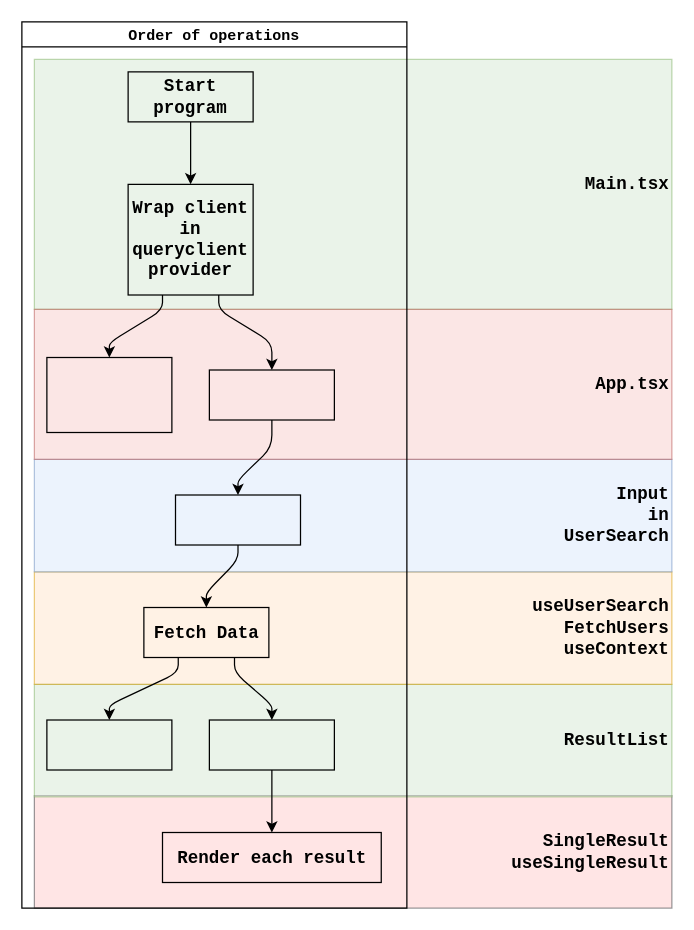
This 694x930 diagram has some shape labels left out. The shapes that lost their labels are listed below. From the top down, each one's centre as x and y in pixels, then its label:
(x=109, y=394): Render Title
(x=271, y=394): SearchBar Render
(x=237, y=519): Take Input
(x=109, y=744): Show Suggestion
(x=271, y=744): Show Result List
